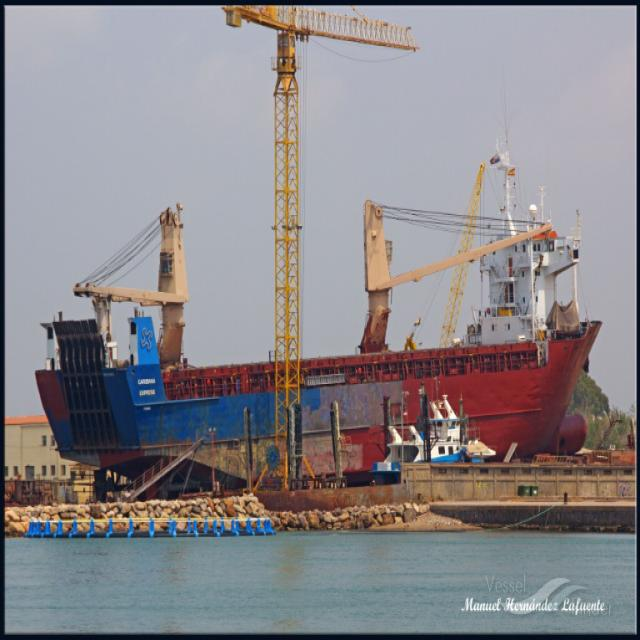RORO Vessel: (36, 157, 605, 484)
